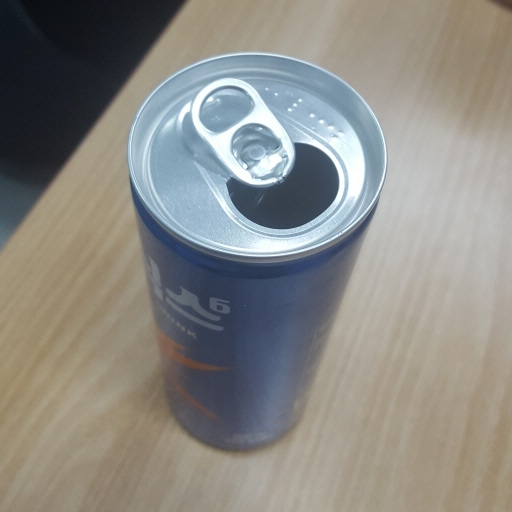Metal_0: (125, 51, 388, 454)
